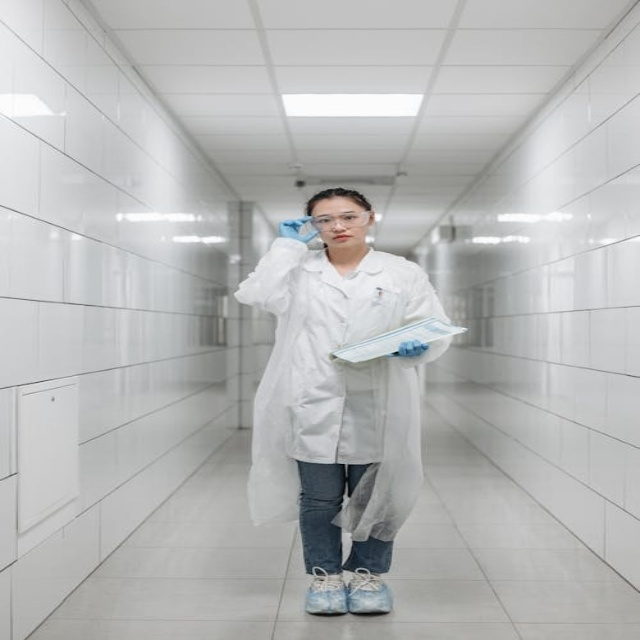Gafas: (308, 211, 371, 231)
Guantes: (279, 216, 319, 245), (389, 340, 429, 357)
Sin_mascara: (323, 232, 357, 248)
